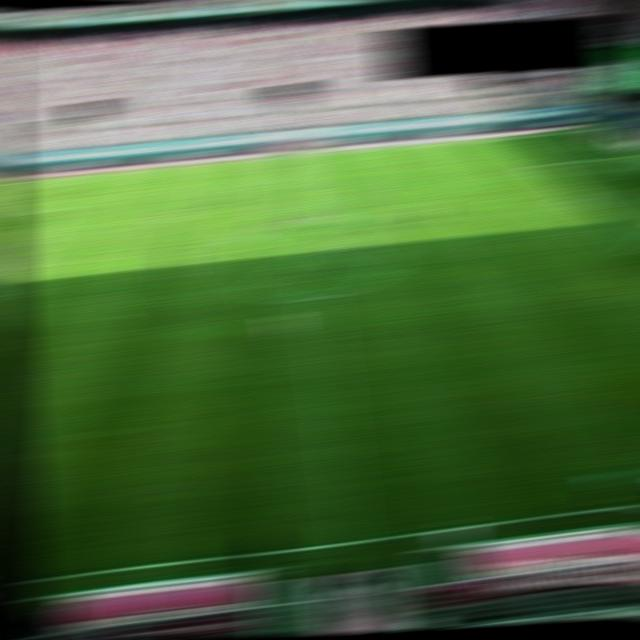bigarea_top_inner: (40, 203, 75, 216), (522, 160, 551, 168)
bigarea_top_outter: (621, 149, 640, 159)
corner: (574, 125, 604, 135)
halfcircle_bottom: (303, 294, 332, 303)
halfcircle_top: (291, 212, 320, 221)
midline_bottom_intersection: (335, 535, 368, 548)
midline_top_intersection: (281, 151, 312, 160)
top_arc_area_intersection: (8, 247, 40, 257), (562, 192, 591, 201)
